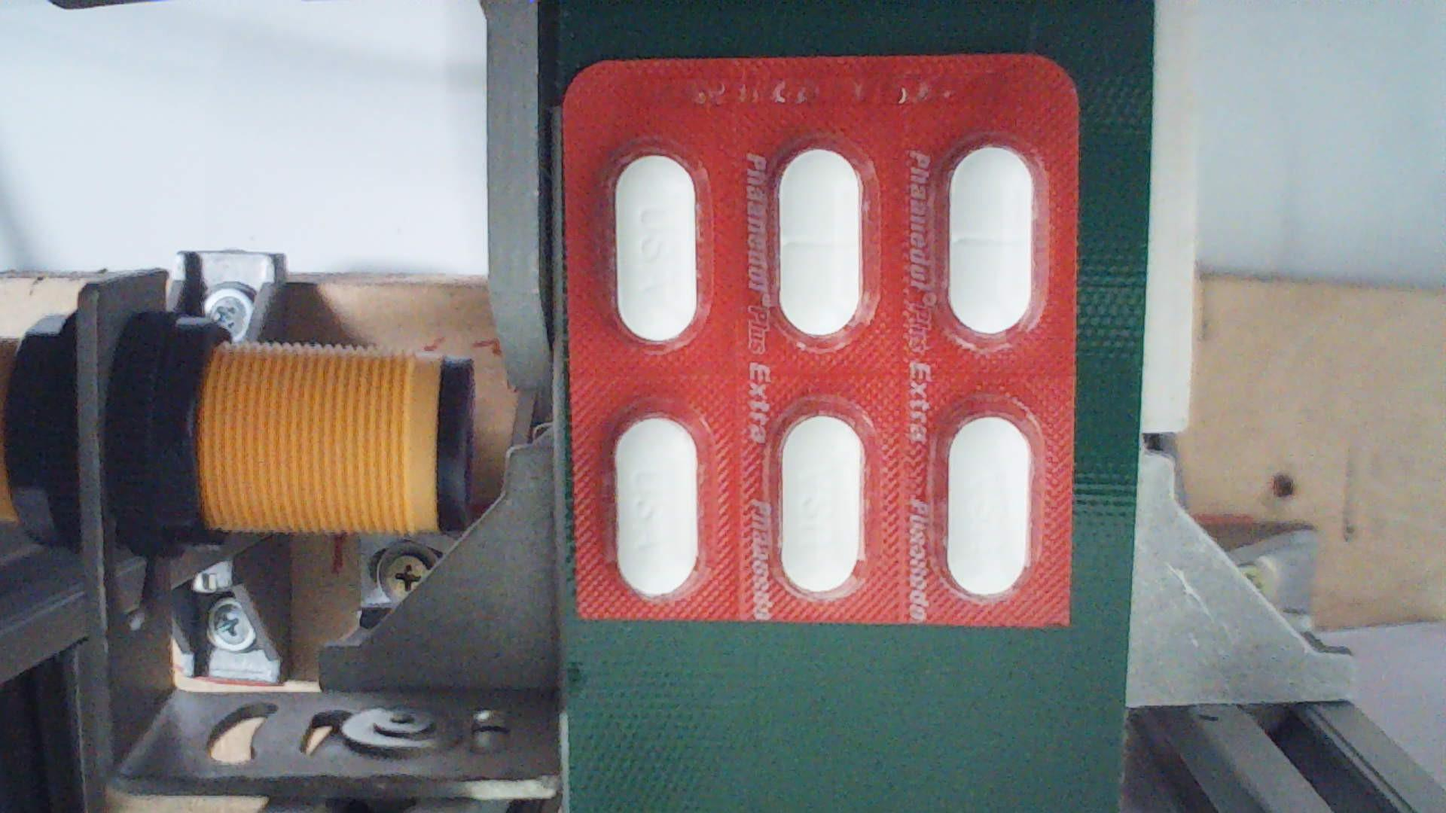Full: (937, 135, 1049, 351), (606, 396, 718, 611), (768, 397, 880, 612), (934, 390, 1046, 605), (768, 133, 874, 352), (606, 144, 711, 362)
